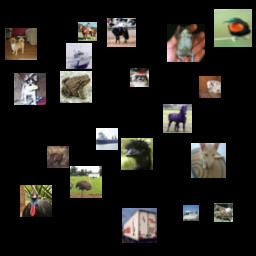airplane: (2, 41, 40, 79), (2, 148, 40, 186), (211, 196, 246, 231), (158, 66, 180, 88)
automobile: (201, 120, 236, 155), (90, 56, 122, 88), (125, 161, 154, 190)
cat: (80, 145, 118, 183), (121, 203, 156, 238), (207, 162, 226, 181)
deer: (87, 193, 113, 219), (51, 195, 73, 217), (173, 162, 189, 178)
dog: (141, 31, 173, 63)
frog: (21, 108, 59, 146), (183, 34, 218, 69)
ship: (71, 5, 103, 37)
